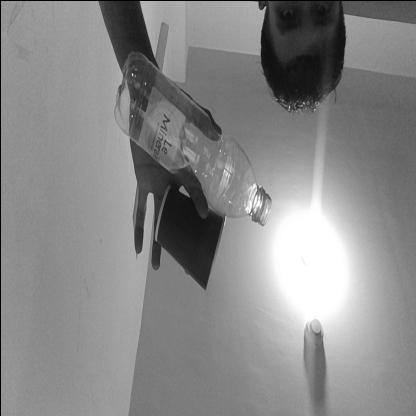objects: (155, 178, 225, 286)
plastic_bottles: (114, 48, 271, 226)
